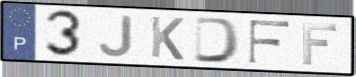3: (40, 9, 88, 59)
D: (192, 15, 243, 65)
F: (247, 19, 293, 66), (301, 22, 340, 67)
J: (97, 14, 135, 59)
K: (149, 15, 186, 62)
